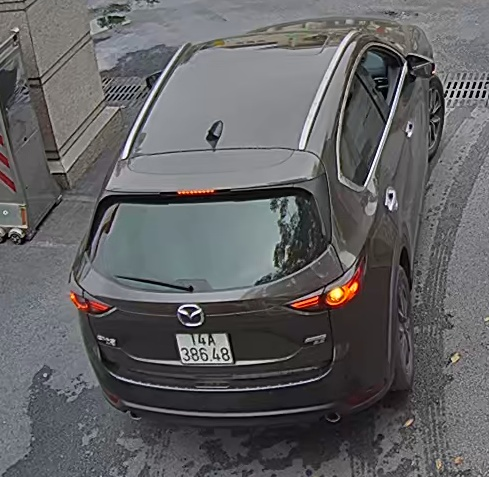vehicle plate: (171, 325, 238, 371)
